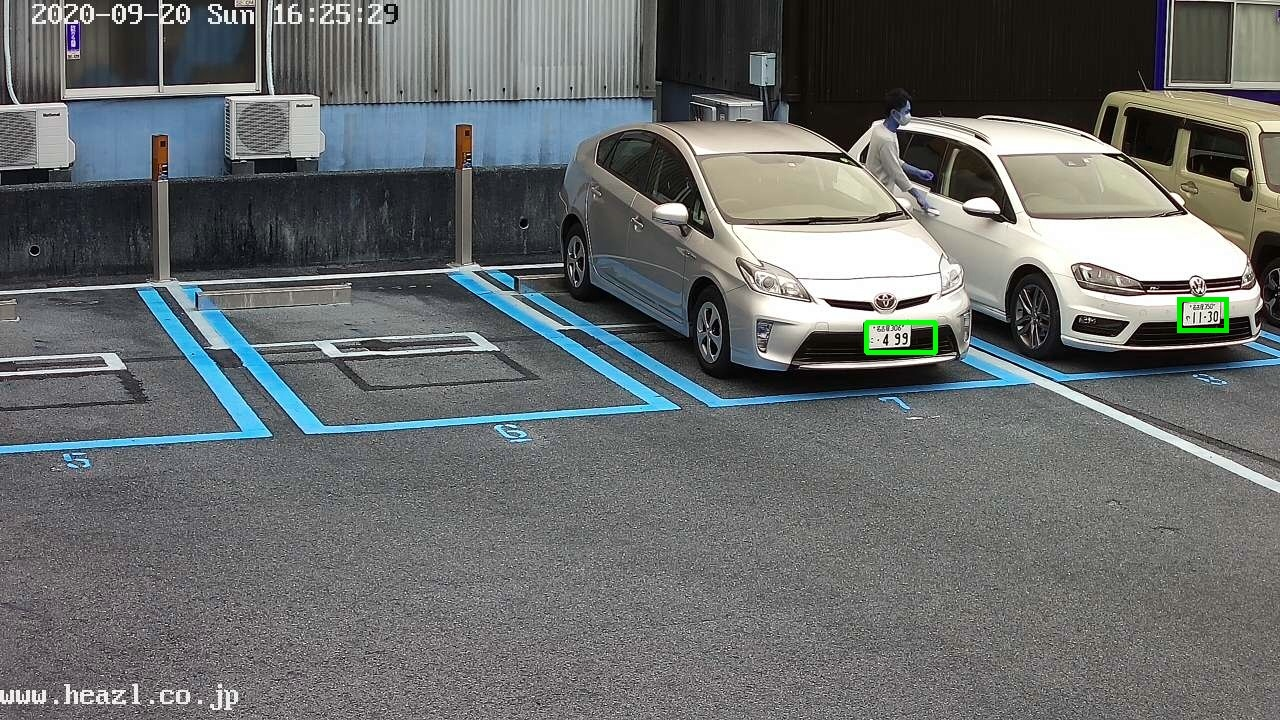number_plate: (862, 322, 913, 349), (1180, 301, 1221, 325)
